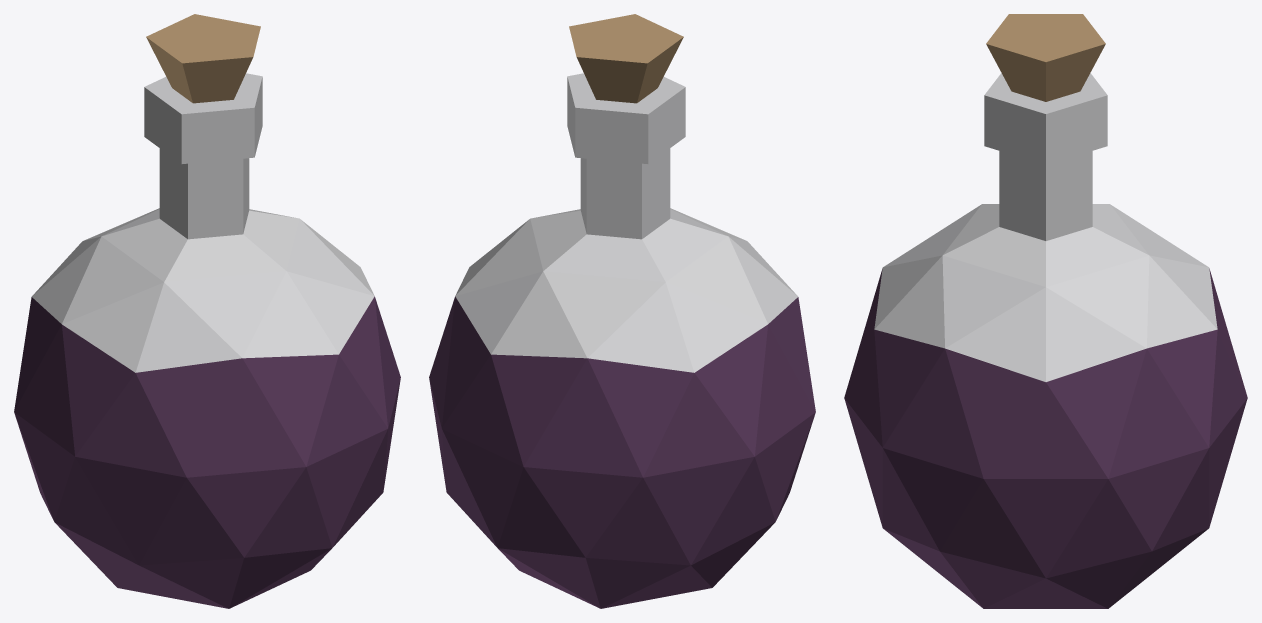
Rendered from WF_LP_HT_Props_PotionBottle.007.fbx.
3 renders of one model, left to right at view 1: azimuth 30°, elevation 25°; view 2: azimuth 150°, elevation 25°; view 3: azimuth 270°, elevation 25°, orthographic. The views are drawn at different scales.
Visible parts, largest first — view 1: WF_LP_HT_Props_PotionBottle.007; view 2: WF_LP_HT_Props_PotionBottle.007; view 3: WF_LP_HT_Props_PotionBottle.007.
Part boxes in pixels (x1,y1,x2,y2): WF_LP_HT_Props_PotionBottle.007: (14, 14, 400, 608); WF_LP_HT_Props_PotionBottle.007: (429, 14, 815, 608); WF_LP_HT_Props_PotionBottle.007: (844, 14, 1247, 608).
Size of the model in its own units: 0.2203 by 0.3477 by 0.2316.
